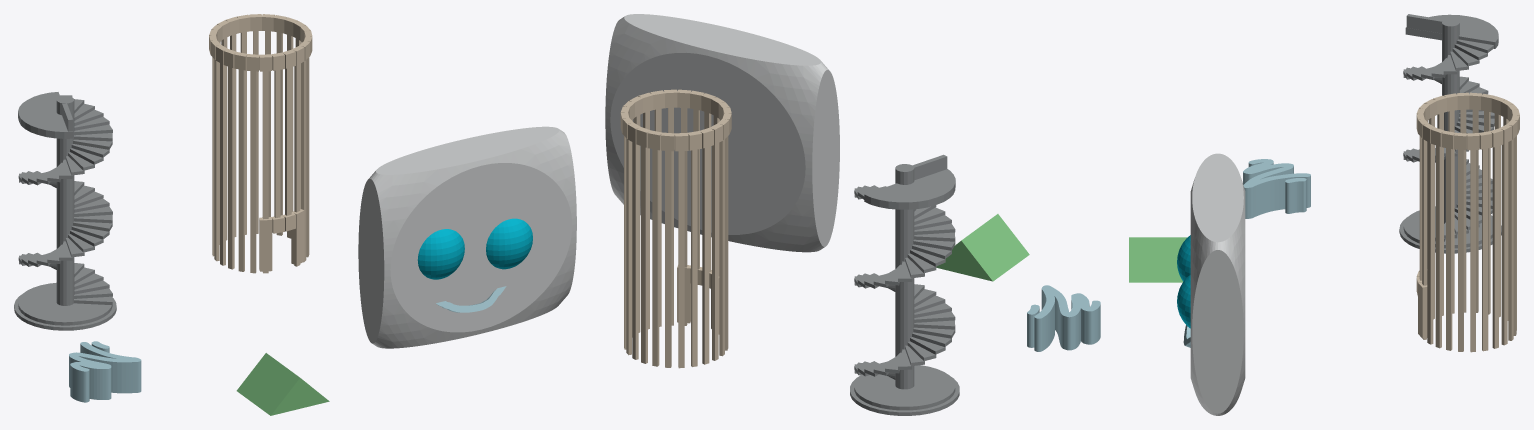
Rendered from Learning_the_Moves.glb.
3 views of the same model, side by side, from view 1: azimuth 30°, elevation 25°; view 2: azimuth 150°, elevation 25°; view 3: azimuth 270°, elevation 25° (orthographic). The views are drawn at different scales.
Parts seen in each view (by area): view 1: Mesh_Mesh_head_geo.001_lambert2SG.001; view 2: Mesh_Mesh_head_geo.001_lambert2SG.001; view 3: Mesh_Mesh_head_geo.001_lambert2SG.001.
Boxes of the visible parts, x1,y1,x2,y2 form: Mesh_Mesh_head_geo.001_lambert2SG.001: (14, 14, 576, 415); Mesh_Mesh_head_geo.001_lambert2SG.001: (605, 14, 1100, 415); Mesh_Mesh_head_geo.001_lambert2SG.001: (1129, 14, 1519, 415).
Size of the model in its own units: 158 by 70 by 114.
